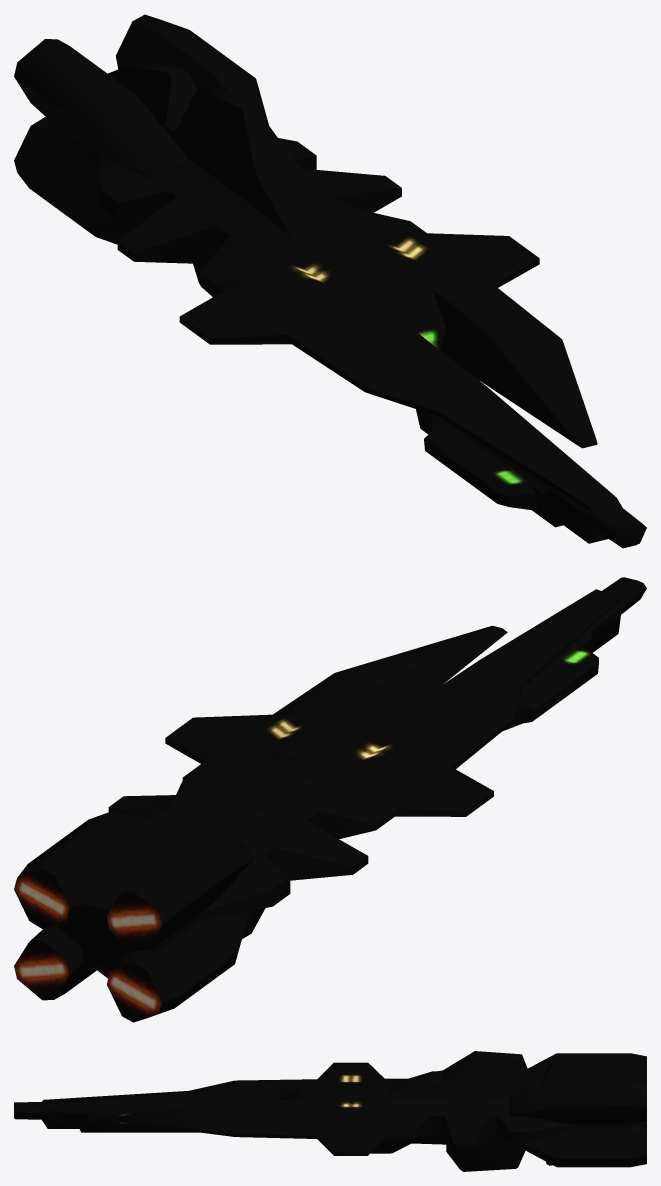
The model's file is vgr_lance_fighter_01.glb.
3 renders of one model, top to bottom at view 1: azimuth 30°, elevation 25°; view 2: azimuth 150°, elevation 25°; view 3: azimuth 270°, elevation 25°, orthographic. The views are drawn at different scales.
Visible parts, largest first — view 1: vgr_lance_fighter_01_LOD0; view 2: vgr_lance_fighter_01_LOD0; view 3: vgr_lance_fighter_01_LOD0.
Boxes of the visible parts, bbox=[...] form: vgr_lance_fighter_01_LOD0: bbox=[14, 14, 646, 548]; vgr_lance_fighter_01_LOD0: bbox=[14, 577, 646, 1022]; vgr_lance_fighter_01_LOD0: bbox=[14, 1051, 646, 1171].
Size of what is drawn, in the model's own units: 0.161 by 0.0962 by 0.4793.
Materials: 1 (1 with a texture image).
